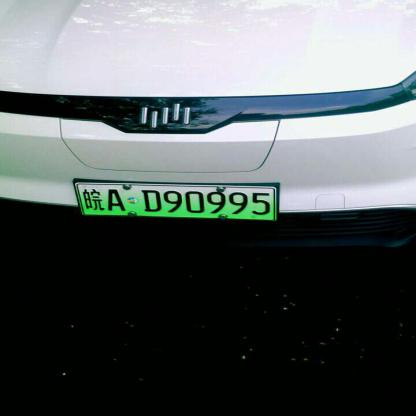lp: (76, 184, 274, 219)
